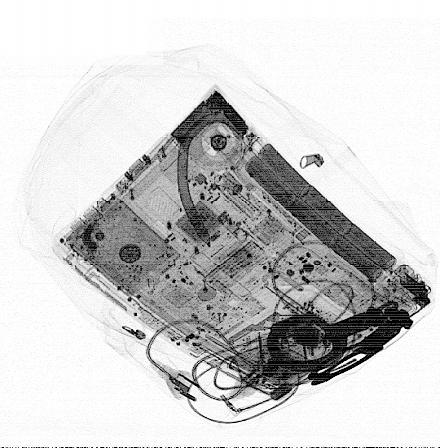HandCuffs: (264, 306, 413, 386)
